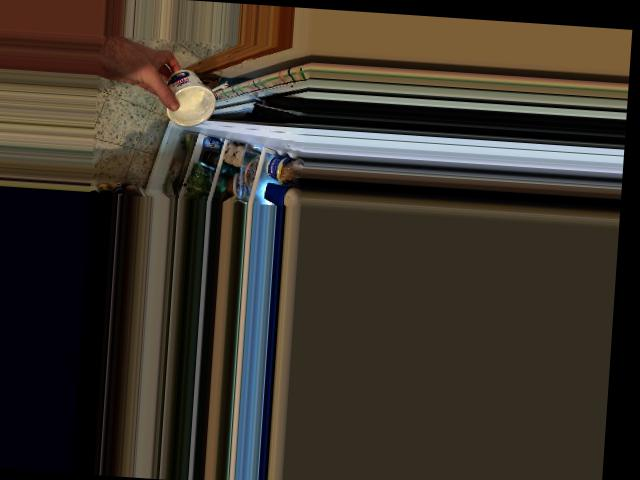cotage: (161, 65, 217, 124)
